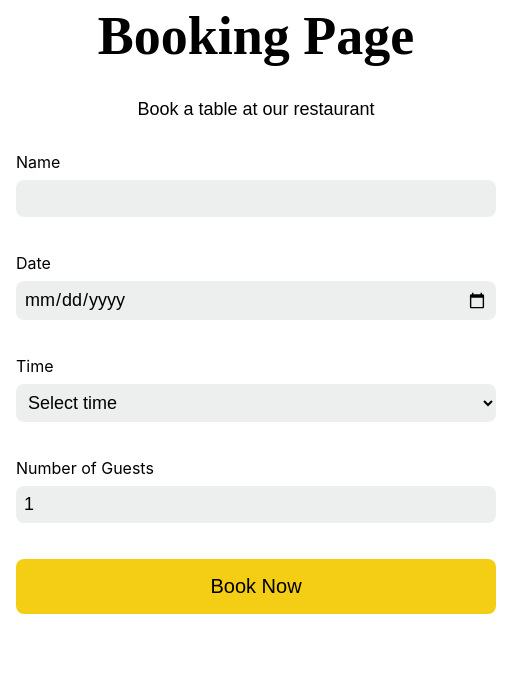
Test: BookingPage Component › shows validation errors on submit with empty fields
This screenshot has width=513, height=678.
Click the button "Book Now" at (256,586), box x1=16 y1=559 x2=496 y2=614
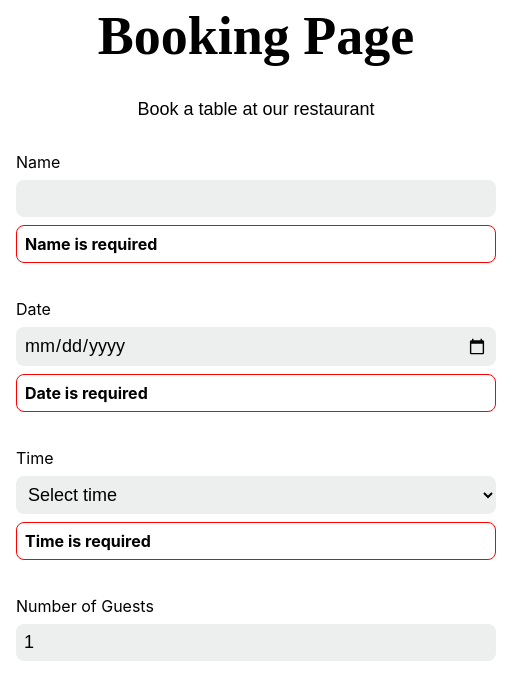
Check: the text "Name is required" is shown, box x1=16 y1=225 x2=496 y2=263
Check: the text "Date is required" is shown, box x1=16 y1=374 x2=496 y2=412
Check: the text "Time is required" is shown, box x1=16 y1=522 x2=496 y2=560
